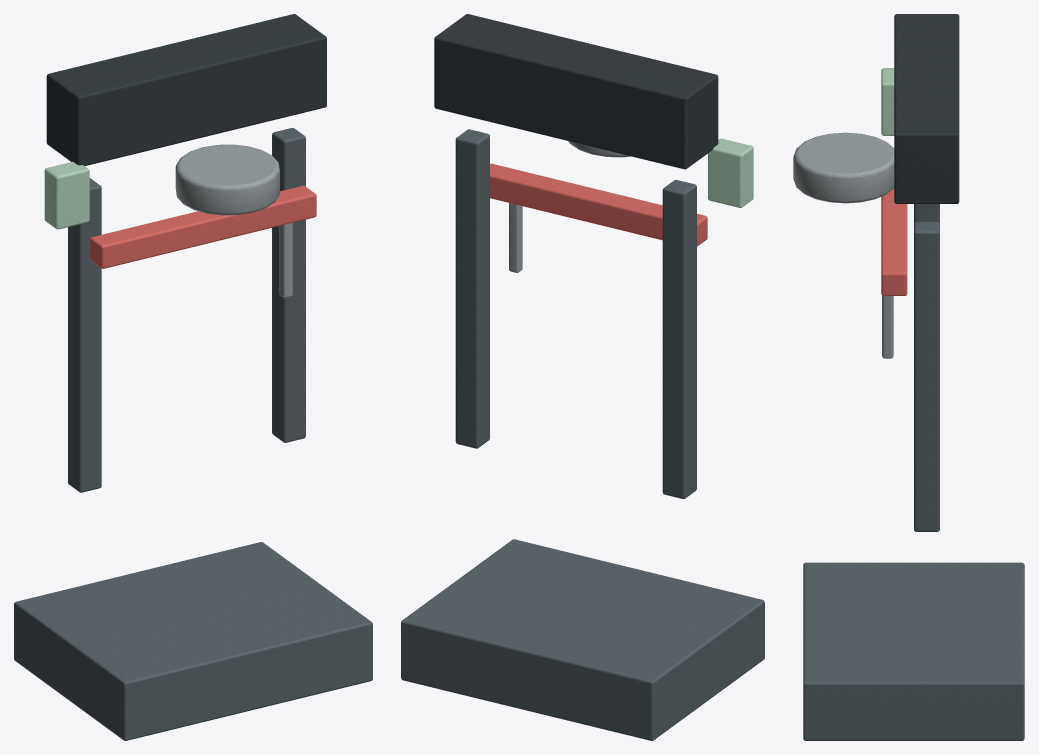
The model's file is WallEmergencyShower.glb.
3 views of the same model, side by side, from view 1: azimuth 30°, elevation 25°; view 2: azimuth 150°, elevation 25°; view 3: azimuth 270°, elevation 25° (orthographic).
Parts seen in each view (by area): view 1: WallEmergencyShower_Mesh; view 2: WallEmergencyShower_Mesh; view 3: WallEmergencyShower_Mesh.
Boxes of the visible parts, <box> form: WallEmergencyShower_Mesh: <box>14,14,372,740</box>; WallEmergencyShower_Mesh: <box>401,14,764,740</box>; WallEmergencyShower_Mesh: <box>793,14,1024,740</box>.
Size of the model in its own units: 0.98 by 2.06 by 0.71.
Materials: 5 (5 with a texture image).
